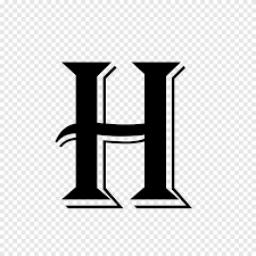h: (40, 36, 208, 222)
